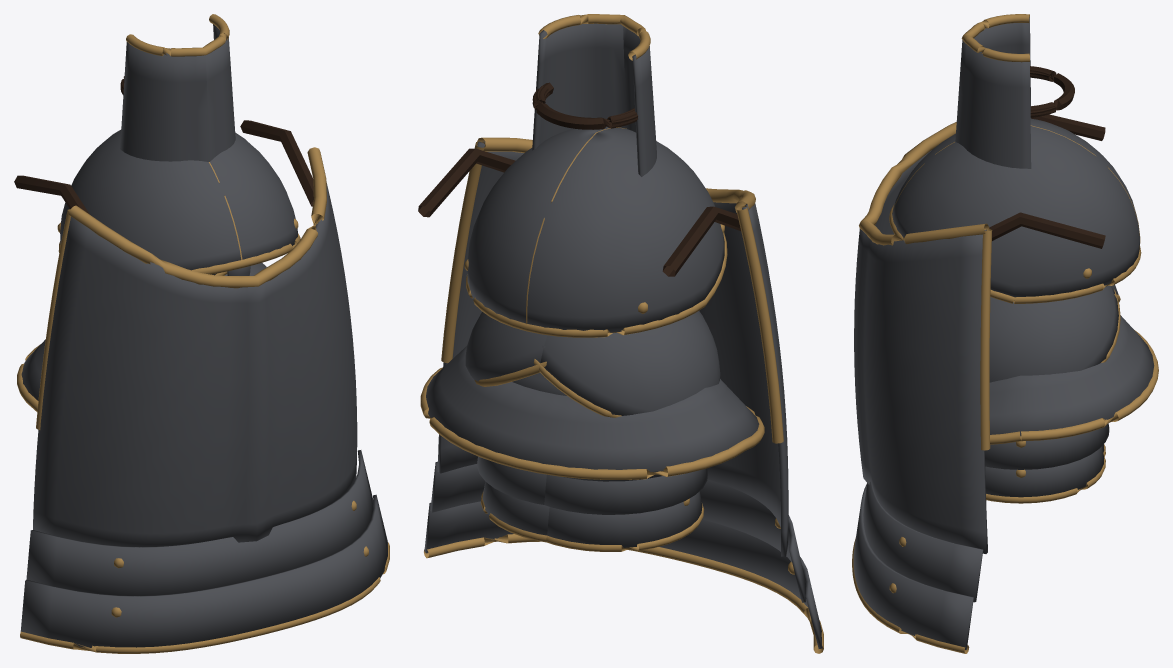
File: armor_kit.glb
3 views of the same model, side by side, from view 1: azimuth 30°, elevation 25°; view 2: azimuth 150°, elevation 25°; view 3: azimuth 270°, elevation 25° (orthographic). The views are drawn at different scales.
Parts seen in each view (by area): view 1: breastplate, helm, greave_R, greave_L, gorget; view 2: helm, breastplate, gorget, pauldron_R, greave_R, pauldron_L, greave_L; view 3: breastplate, helm, pauldron_L, gorget, greave_L, greave_R.
Part boxes in pixels (x1=…): breastplate: x1=14, y1=120, x2=389, y2=653; helm: x1=57, y1=129, x2=300, y2=275; greave_R: x1=120, y1=14, x2=235, y2=275; greave_L: x1=120, y1=14, x2=235, y2=275; gorget: x1=17, y1=339, x2=45, y2=411; helm: x1=464, y1=126, x2=727, y2=337; breastplate: x1=418, y1=137, x2=823, y2=653; gorget: x1=420, y1=346, x2=764, y2=479; pauldron_R: x1=533, y1=311, x2=720, y2=551; greave_R: x1=532, y1=14, x2=656, y2=176; pauldron_L: x1=465, y1=311, x2=549, y2=542; greave_L: x1=532, y1=14, x2=656, y2=176; breastplate: x1=852, y1=114, x2=1105, y2=653; helm: x1=889, y1=118, x2=1141, y2=303; pauldron_L: x1=985, y1=285, x2=1120, y2=503; gorget: x1=989, y1=315, x2=1158, y2=444; greave_L: x1=955, y1=14, x2=1074, y2=168; greave_R: x1=955, y1=14, x2=1074, y2=165.
Size of the model in its own units: 0.3529 by 0.498 by 0.2597.
